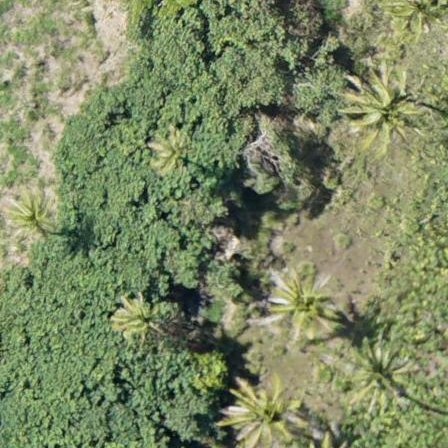palm_tree: (344, 63, 423, 147), (261, 262, 335, 340), (224, 379, 292, 445), (346, 347, 409, 403), (1, 189, 62, 241), (147, 131, 204, 186), (110, 293, 166, 344), (378, 1, 448, 41)
